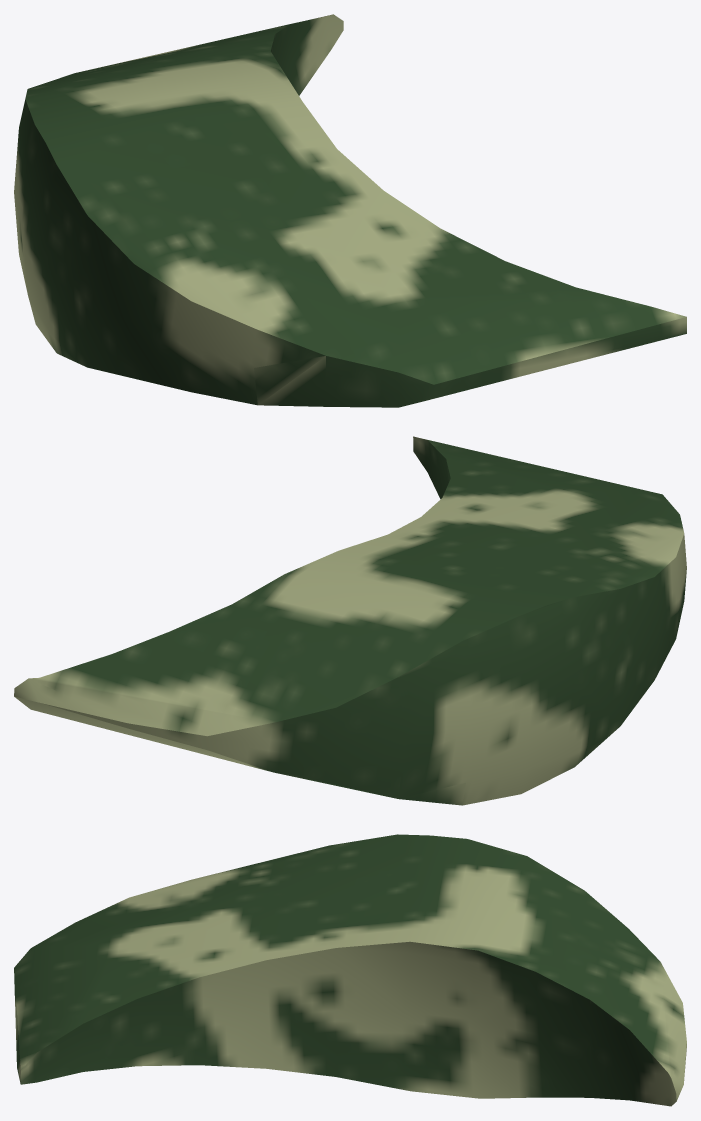
File: link_body_31.obj
3 views of the same model, one above another, from view 1: azimuth 30°, elevation 25°; view 2: azimuth 150°, elevation 25°; view 3: azimuth 270°, elevation 25° (orthographic). The views are drawn at different scales.
Parts seen in each view (by area): view 1: link_body_31; view 2: link_body_31; view 3: link_body_31.
Boxes of the visible parts, bbox=[...] form: link_body_31: bbox=[14, 14, 686, 407]; link_body_31: bbox=[14, 436, 686, 805]; link_body_31: bbox=[14, 834, 686, 1106].
Size of the model in its own units: 7.28 by 2.93 by 10.81.
